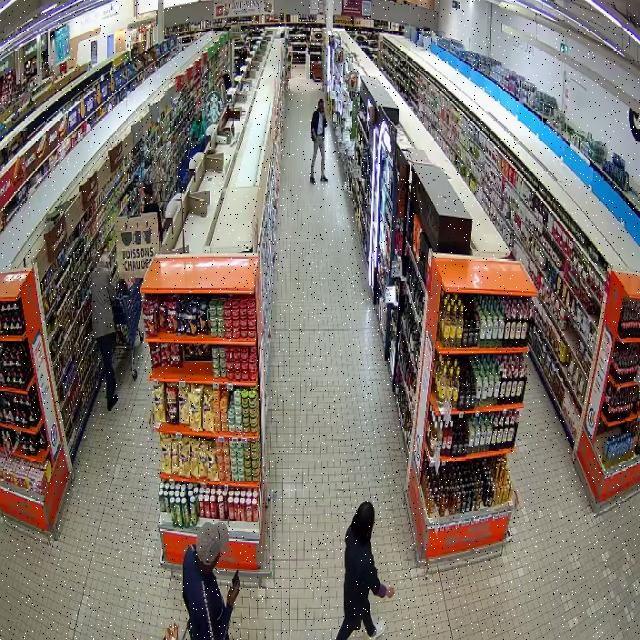article: (312, 133, 317, 141)
hands: (227, 584, 239, 607), (387, 587, 394, 597), (311, 128, 315, 134)
person: (335, 501, 394, 639), (183, 522, 238, 639), (310, 98, 327, 183)
